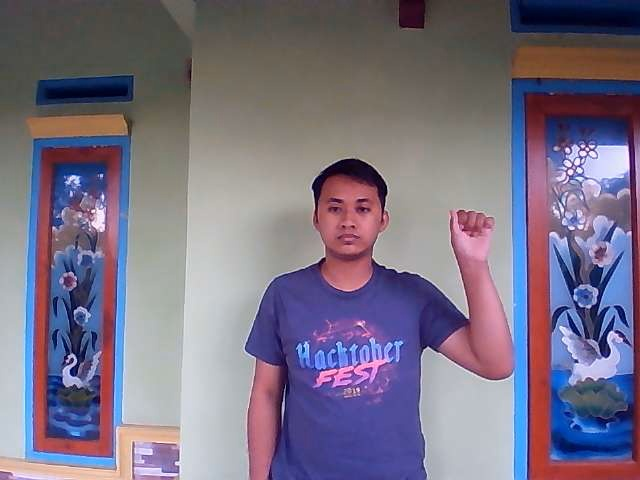A: (442, 204, 502, 276)
